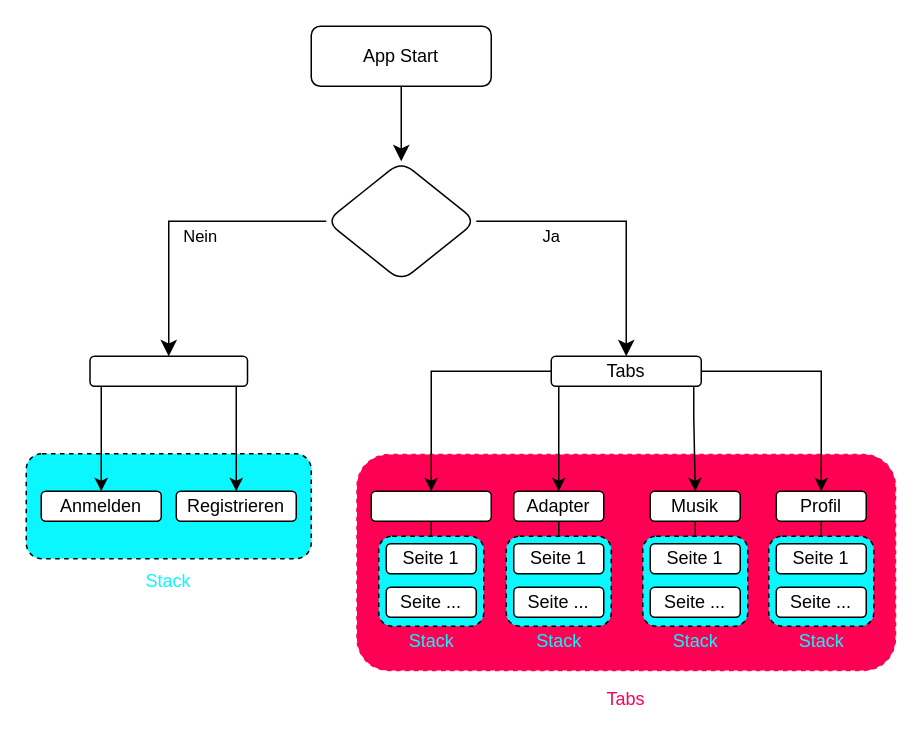
The diagram is 923 pixels wide and 753 high, and some of its shapes have lost their labels. The shapes that lost their labels are listed below. From the top down, each one's centre as x and y in pixels, then its label:
At (400,220): "Benutzer angemeldet?".
At (168,370): "Authentifizierung".
At (430,505): "Verbindungen".
